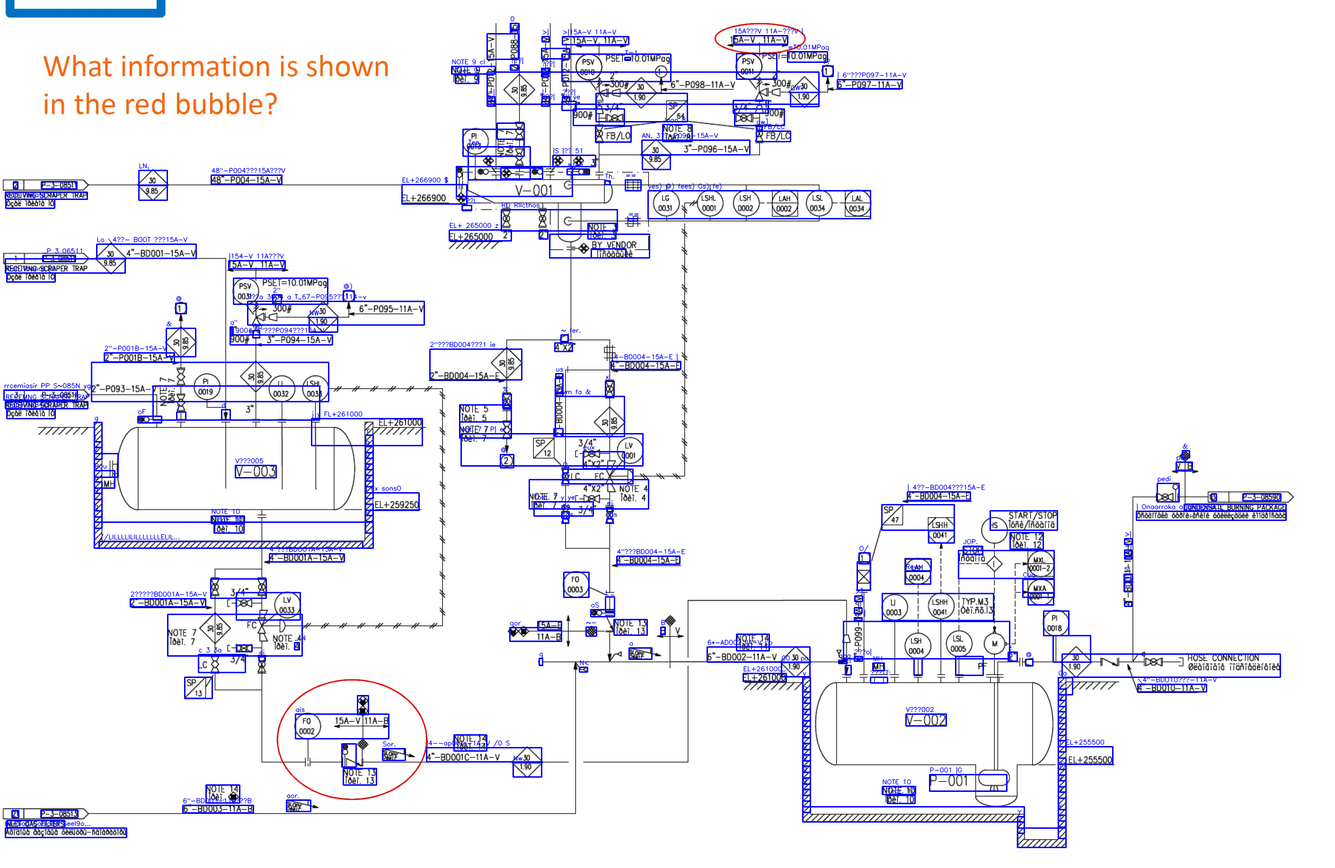Compressor: (250, 328, 262, 340), (840, 633, 852, 645), (770, 86, 783, 97), (611, 87, 623, 98), (267, 312, 279, 323), (593, 105, 604, 115), (755, 104, 765, 114), (1024, 658, 1034, 667)
Conexão: (513, 118, 526, 141), (453, 165, 463, 193), (477, 166, 502, 176), (530, 167, 557, 176), (137, 415, 164, 424), (514, 145, 525, 167), (565, 167, 591, 176), (501, 208, 512, 229), (590, 608, 617, 616), (538, 209, 548, 229), (341, 743, 349, 768), (1171, 482, 1179, 502), (303, 755, 313, 769), (604, 590, 615, 599)
Instrumento: (301, 373, 330, 403), (880, 593, 909, 622), (268, 374, 296, 404), (903, 632, 933, 660), (652, 189, 681, 217), (732, 189, 760, 218), (805, 189, 834, 217), (902, 557, 931, 585), (980, 516, 1009, 544), (927, 591, 955, 620), (927, 516, 955, 544), (945, 630, 973, 658), (1042, 609, 1070, 637), (844, 189, 871, 217), (696, 190, 724, 217), (194, 373, 221, 401), (772, 189, 798, 217)
Motor: (982, 631, 1007, 656)
Outro: (502, 72, 536, 109), (510, 745, 545, 780), (787, 75, 822, 109), (305, 300, 340, 334), (490, 346, 525, 380), (198, 612, 232, 646), (135, 168, 170, 201), (94, 241, 127, 275), (164, 325, 197, 359), (1060, 645, 1093, 679), (592, 406, 627, 438), (625, 76, 658, 109), (779, 646, 813, 678), (637, 140, 672, 171), (239, 360, 272, 392), (855, 548, 875, 592), (575, 52, 604, 82), (1026, 578, 1056, 607), (1027, 551, 1055, 576), (356, 694, 370, 718), (507, 625, 531, 638), (985, 555, 1003, 572), (558, 331, 571, 343)
Vaso: (815, 678, 1055, 808), (115, 426, 357, 513), (467, 178, 614, 203)
Válvula: (257, 607, 287, 644), (605, 459, 634, 493), (251, 298, 267, 328), (593, 76, 610, 103), (753, 76, 769, 101), (208, 575, 221, 599), (604, 503, 616, 527), (1141, 656, 1165, 668), (603, 378, 616, 400), (175, 366, 187, 389), (560, 503, 571, 526), (256, 575, 267, 598), (501, 419, 513, 440), (604, 112, 626, 123), (209, 654, 220, 676), (234, 643, 254, 655), (594, 123, 605, 144), (754, 123, 765, 144), (733, 112, 754, 123), (502, 391, 513, 412), (560, 466, 571, 487), (1099, 656, 1120, 667), (1154, 492, 1175, 503), (234, 597, 253, 609), (257, 653, 267, 675), (345, 756, 365, 767), (176, 393, 186, 414), (583, 493, 602, 504), (583, 448, 601, 459), (500, 166, 512, 179), (578, 243, 590, 255), (456, 191, 467, 203), (482, 155, 494, 166), (553, 155, 564, 167), (574, 155, 584, 166)
